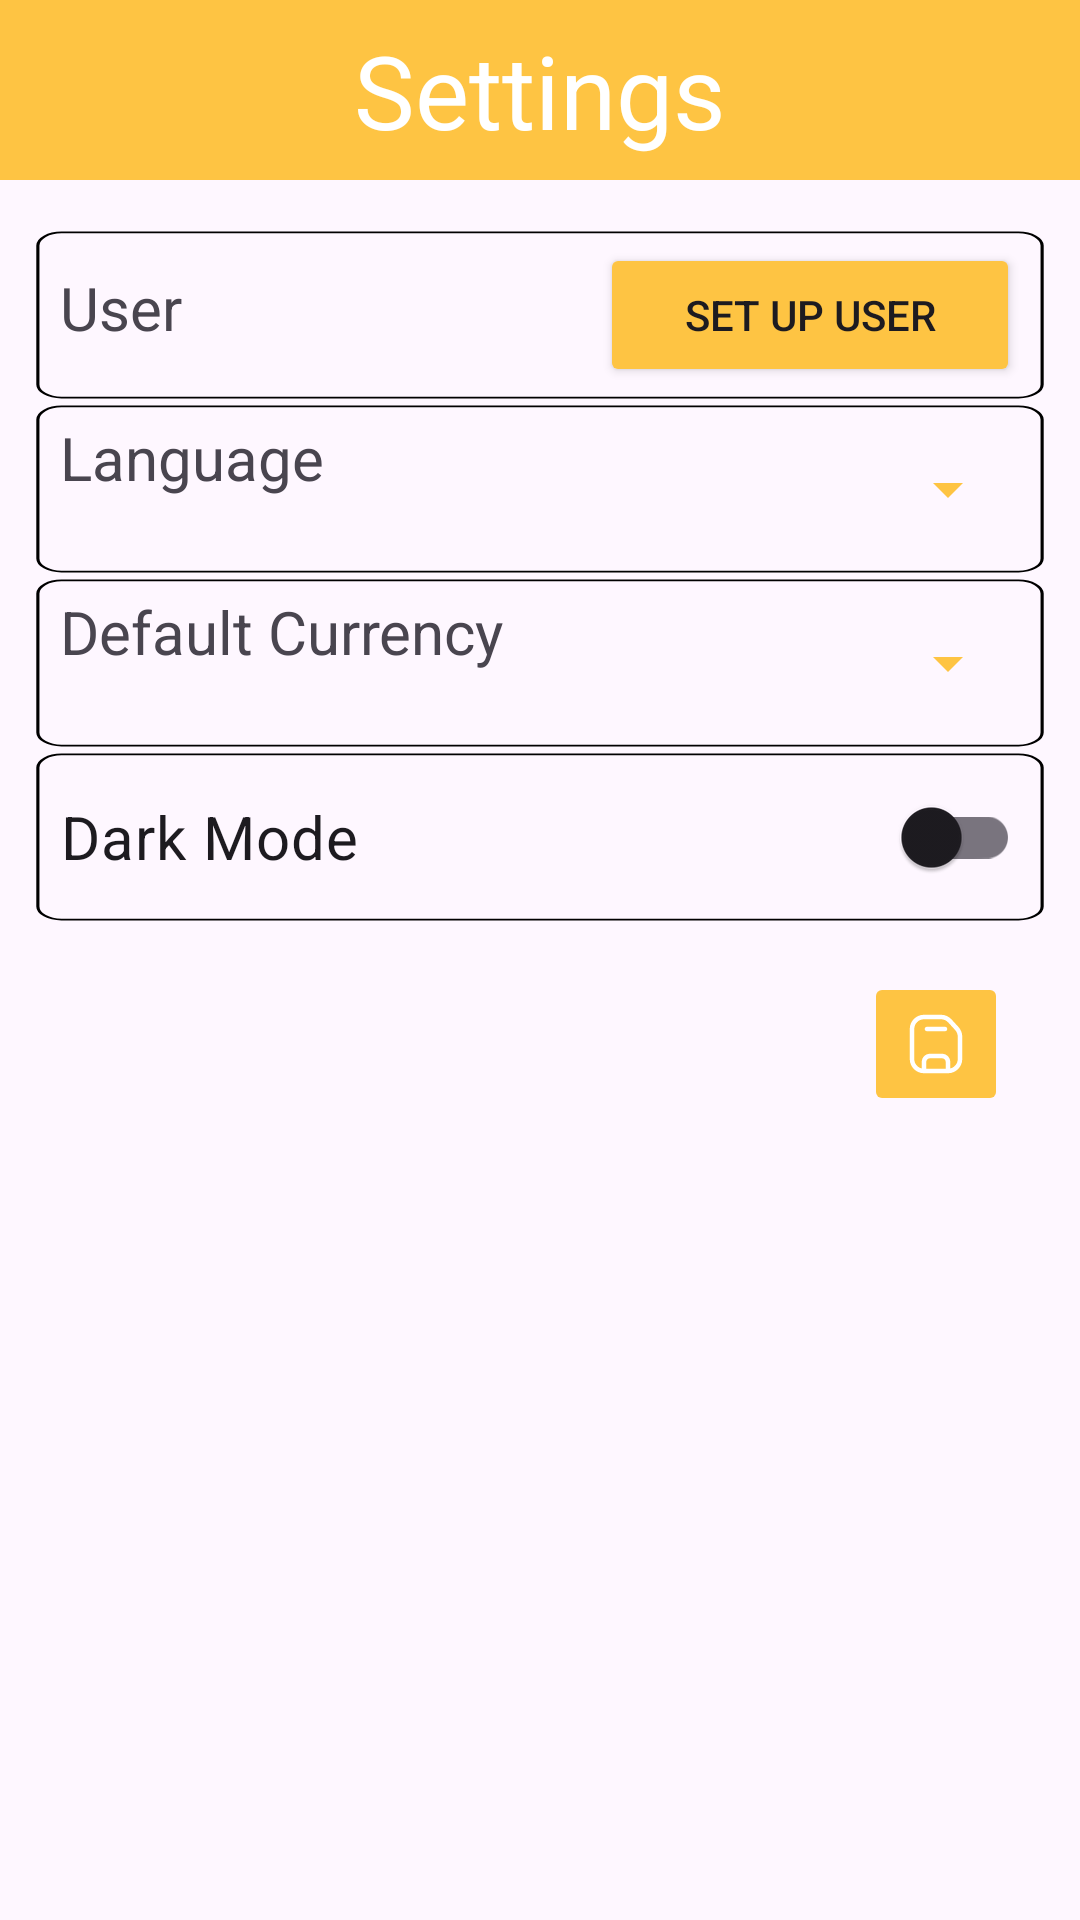

Screen size 1080x1920. Icon name, then its box in pixels as detection(x1, y1, x2, y2):
Save: detection(876, 990, 996, 1098)
